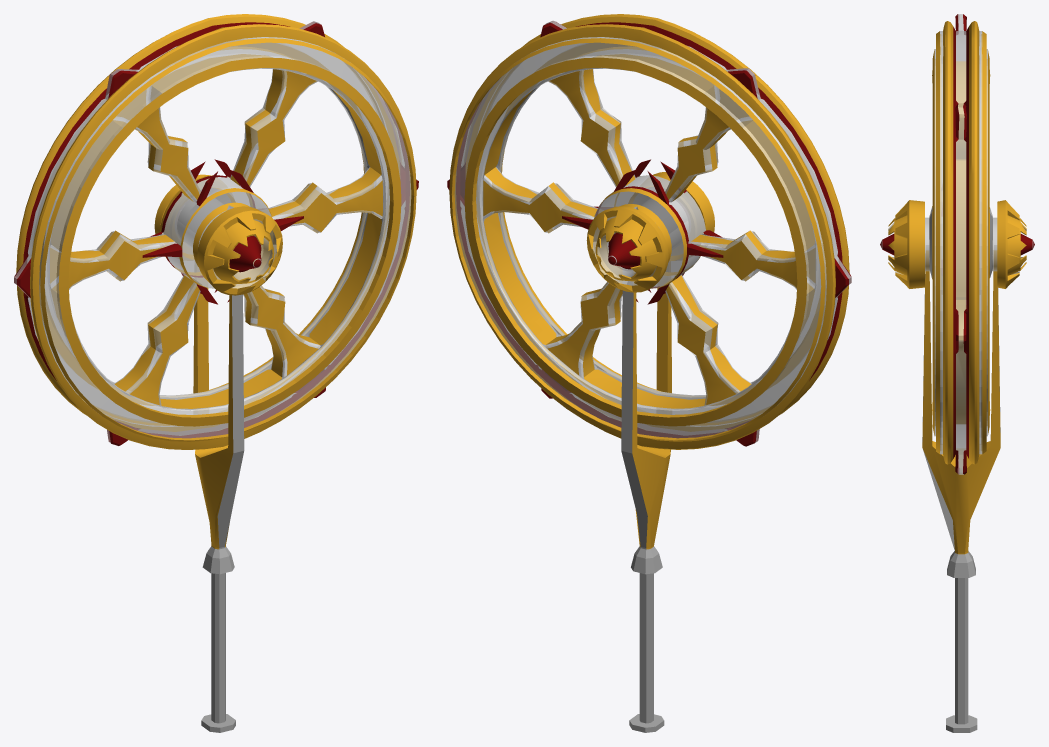
File: weaponChariot_03.fbx
3 views of the same model, side by side, from view 1: azimuth 30°, elevation 25°; view 2: azimuth 150°, elevation 25°; view 3: azimuth 270°, elevation 25° (orthographic). The views are drawn at different scales.
Parts seen in each view (by area): view 1: wheelHandle1; view 2: wheelHandle1; view 3: wheelHandle1.
Boxes of the visible parts, x1,y1,x2,y2 form: wheelHandle1: [14, 14, 418, 732]; wheelHandle1: [447, 14, 851, 732]; wheelHandle1: [880, 14, 1034, 732].
Bounding box in the file's own units: 2 × 3.34 × 0.6833.
